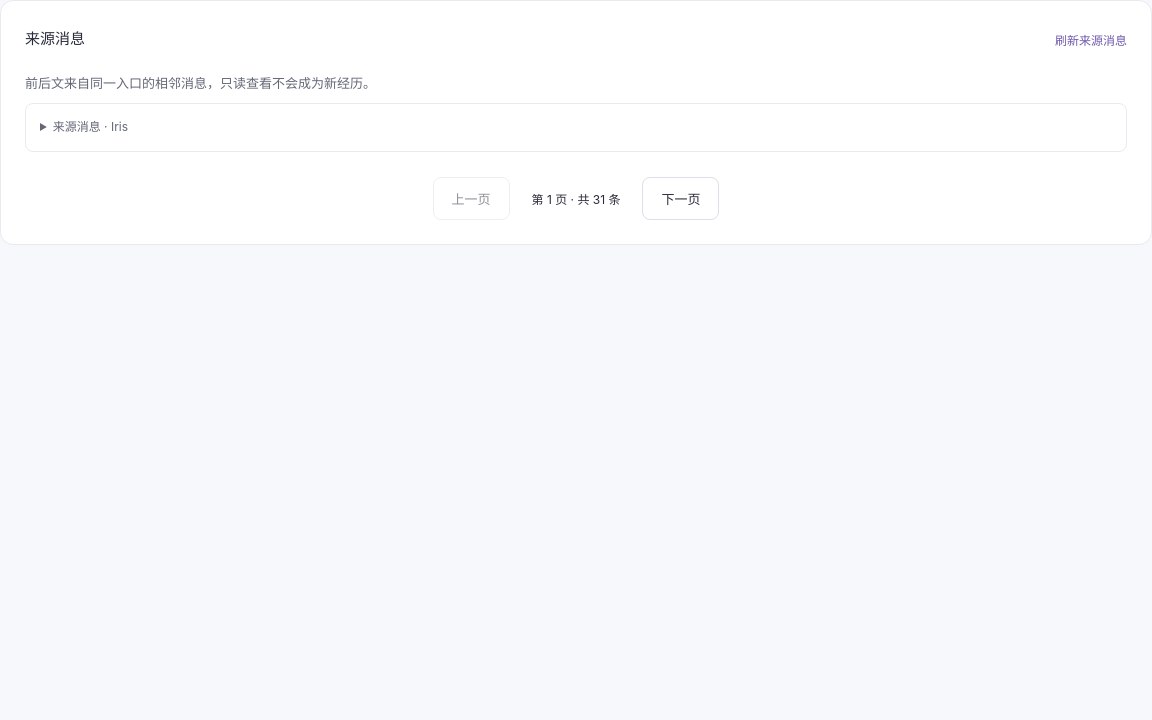
Test: 独立目标来源接口提供前后文、分页与已清理说明，无承诺记忆也能查看
This screenshot has width=1152, height=720.
Click the heading "来源消息 · Iris". click: (90, 127)
box: 53,119 -> 128,134
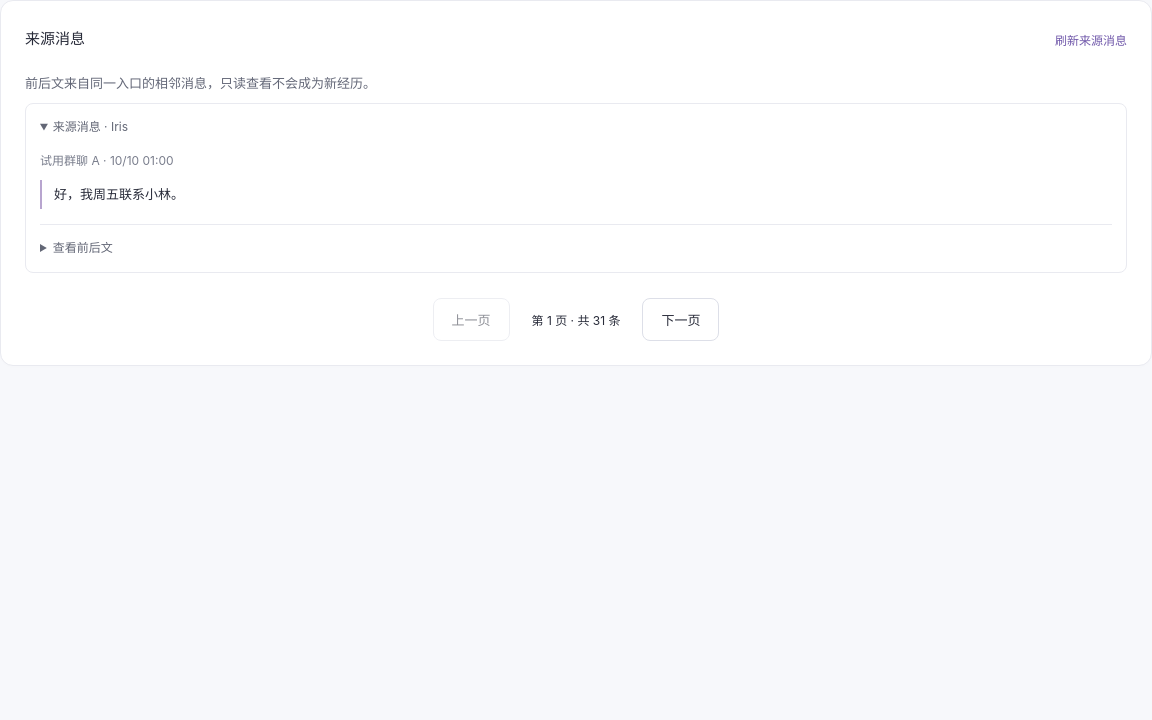
Click the heading "查看前后文". click: (83, 248)
box: 53,240 -> 113,255
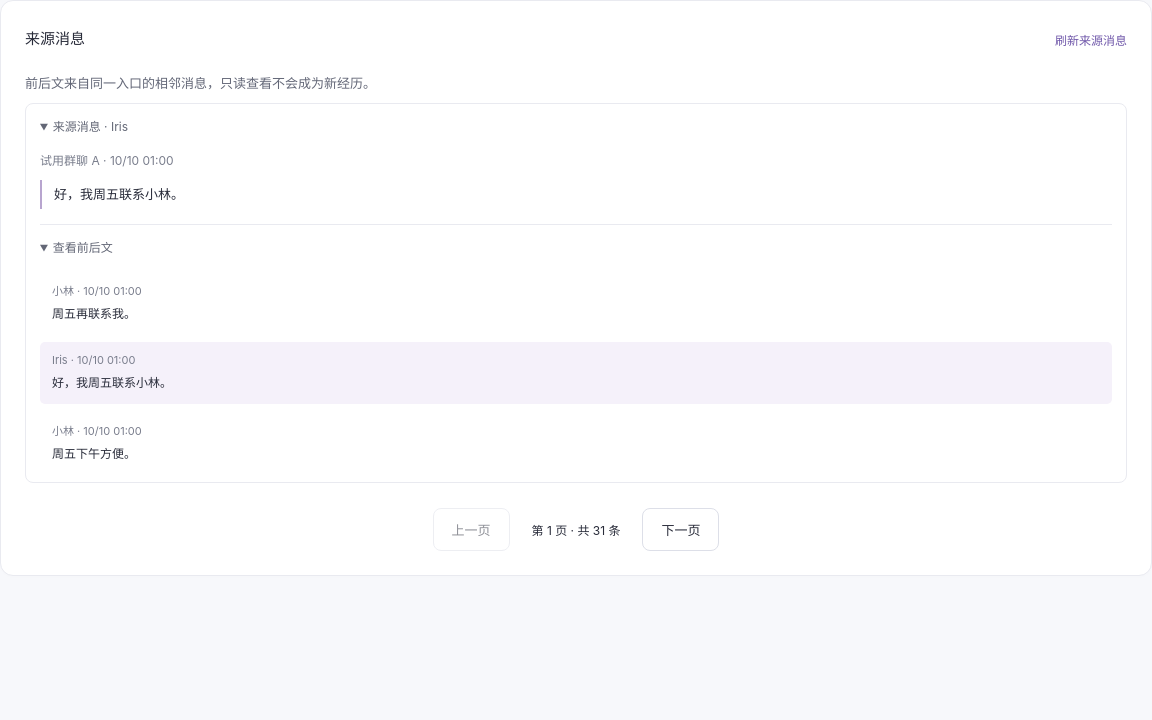
Check: the text "周五下午方便。" is shown, box 52,446 -> 136,461
Check: the text "周五再联系我。" is shown, box 52,306 -> 136,321
Click the button "下一页". click: (681, 530)
box: 642,508 -> 720,551
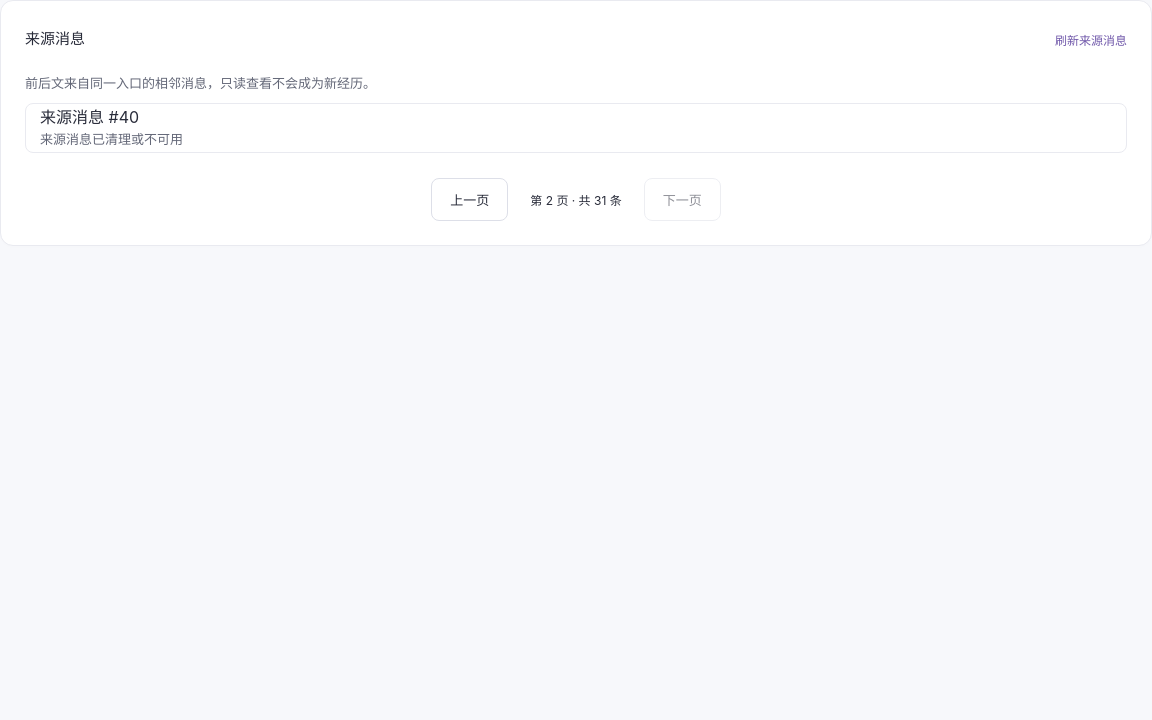
Check: the text "来源消息已清理或不可用" is shown, box 40,131 -> 183,147
Check: the text "来源消息 #40" is shown, box 40,107 -> 139,127
